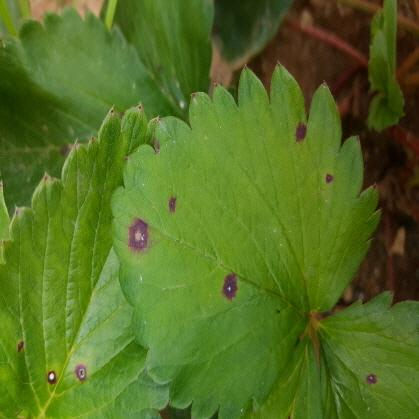Leaf Spot: (109, 58, 383, 418), (0, 99, 171, 418), (0, 5, 176, 219), (102, 0, 216, 126), (313, 289, 418, 418)
